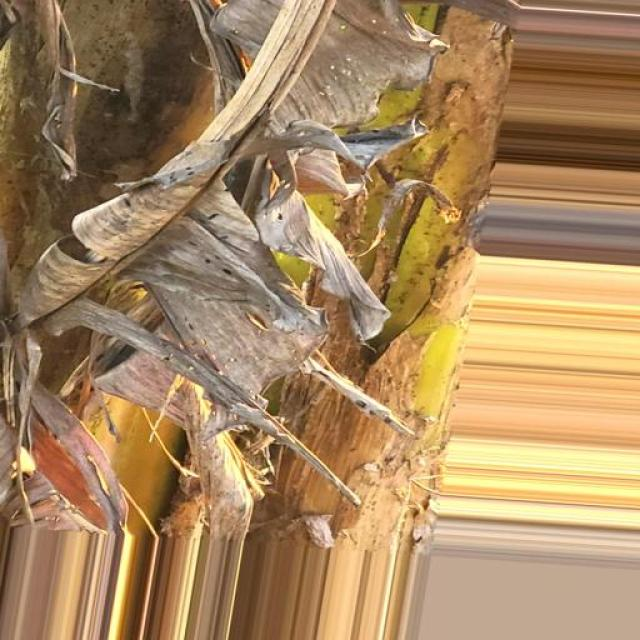Bract_mosaic_virus: (1, 0, 526, 575)
